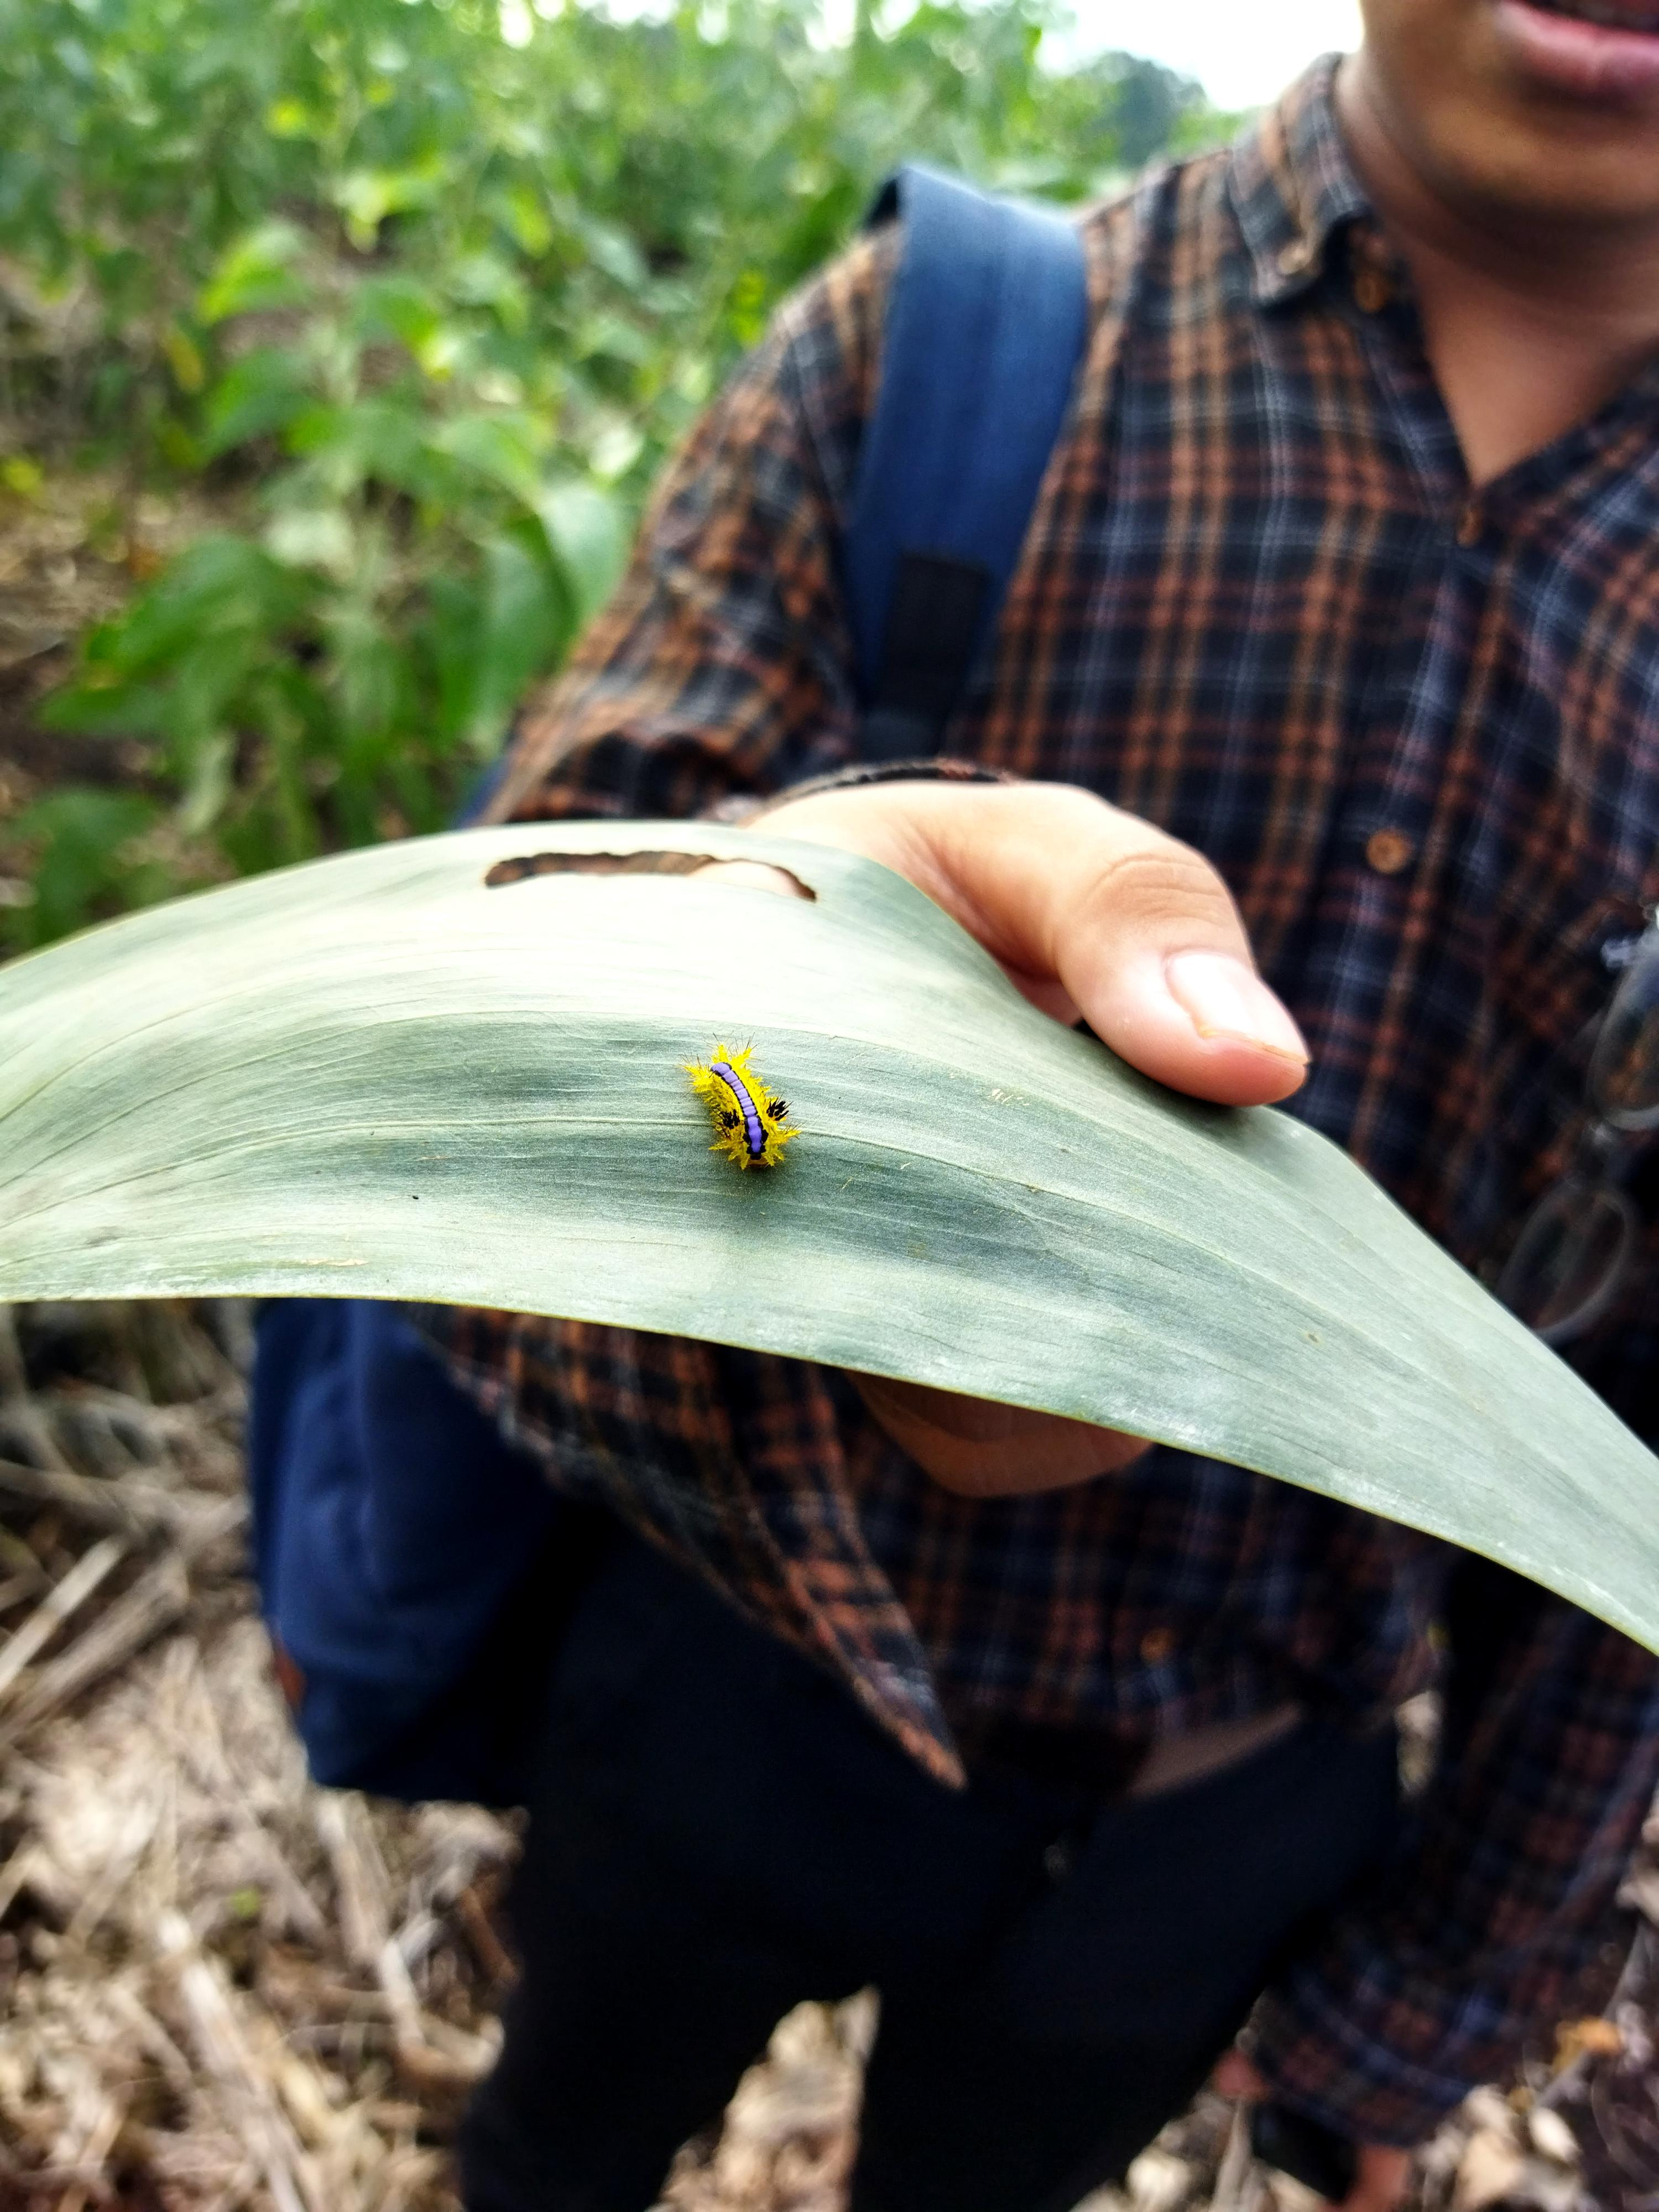Caterpillar: (671, 1029, 833, 1212)
